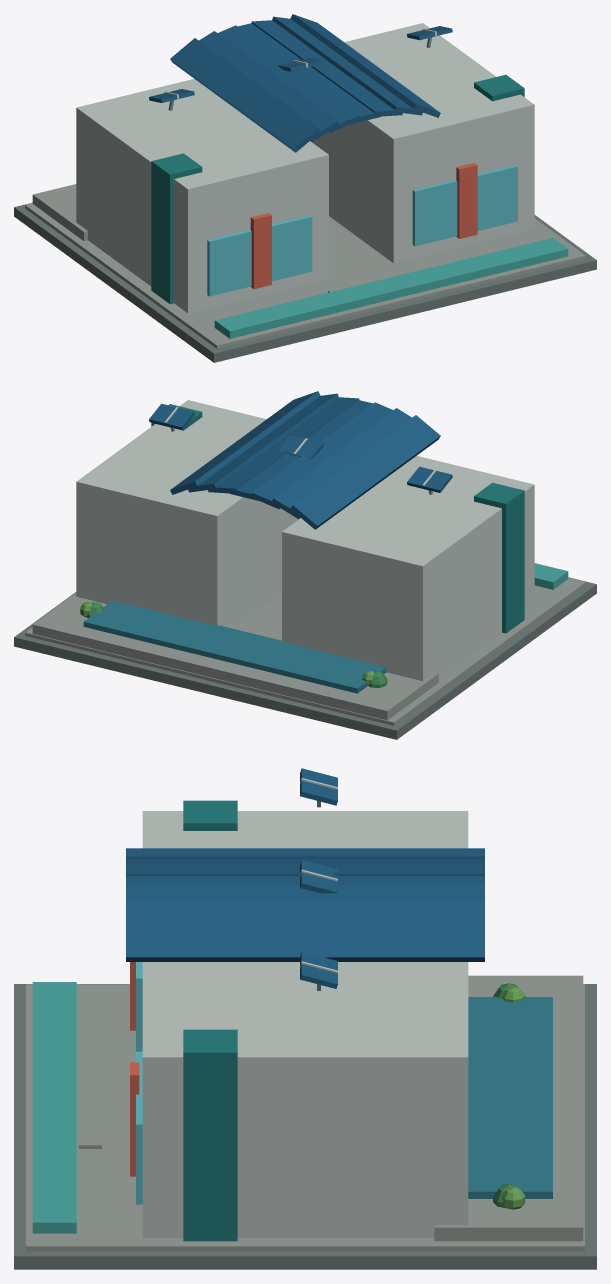
File: metro_station_lv4.glb
3 views of the same model, one above another, from view 1: azimuth 30°, elevation 25°; view 2: azimuth 150°, elevation 25°; view 3: azimuth 270°, elevation 25° (orthographic). The views are drawn at different scales.
Visible parts, largest first — view 1: rough, metallic, glossy; view 2: rough, metallic, glossy; view 3: rough, metallic, glossy.
Part boxes in pixels (x1,y1,x2,y2): rough: (14, 23, 596, 362); metallic: (149, 14, 452, 152); glossy: (207, 165, 517, 296); rough: (14, 400, 596, 739); metallic: (149, 391, 452, 529); glossy: (83, 600, 386, 693); rough: (14, 778, 596, 1269); metallic: (126, 768, 484, 990); glossy: (136, 962, 552, 1204).
Bounding box in the file's own units: 9.5 × 4.29 × 8.6.
